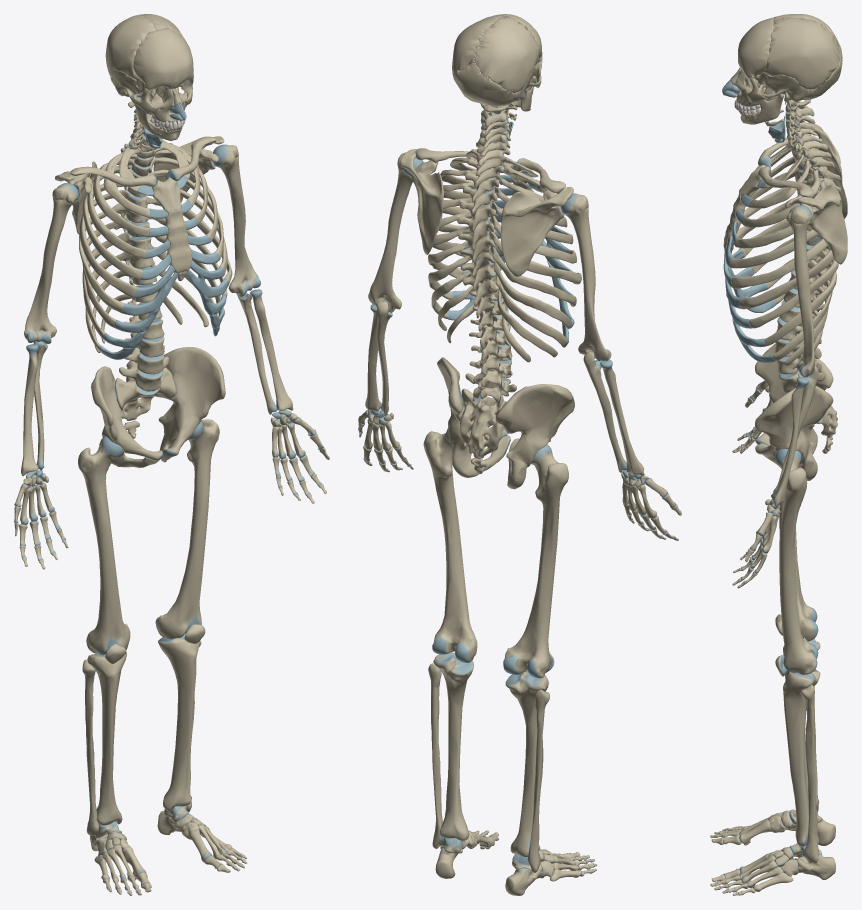
The model's file is skeleton.glb.
3 views of the same model, side by side, from view 1: azimuth 30°, elevation 25°; view 2: azimuth 150°, elevation 25°; view 3: azimuth 270°, elevation 25° (orthographic). The views are drawn at different scales.
Visible parts, largest first — view 1: Femur_r, Femur_l, Hip_bone_l, Tibia_l, Frontal_bone, Tibia_r, Humerus_r, Humerus_l, Hip_bone_r, Parietal_bone_r, Sacrum, Fibula_r (+18 smaller); view 2: Femur_r, Femur_l, Hip_bone_r, Scapula_r, Parietal_bone_r, Tibia_l, Tibia_r, Humerus_r, Humerus_l, Hip_bone_l, Scapula_l, Sacrum (+15 smaller); view 3: Femur_l, Parietal_bone_l, Tibia_l, Hip_bone_l, Humerus_l, Scapula_l, Fibula_l, Frontal_bone, Hip_bone_r, Radius_l, Femur_r, Seventh_rib_l (+28 smaller).
Boxes of the visible parts, box(x1,y1,x2,y2) form: Femur_r: box(78, 436, 130, 655); Femur_l: box(155, 419, 219, 639); Hip_bone_l: box(158, 347, 225, 462); Tibia_l: box(158, 633, 200, 811); Frontal_bone: box(133, 28, 193, 91); Tibia_r: box(87, 652, 126, 825); Humerus_r: box(24, 183, 78, 344); Humerus_l: box(212, 144, 260, 296); Hip_bone_r: box(91, 366, 162, 467); Parietal_bone_r: box(105, 15, 157, 79); Sacrum: box(115, 367, 175, 420); Fibula_r: box(82, 659, 99, 835); Femur_r: box(503, 444, 568, 678); Femur_l: box(423, 428, 477, 662); Hip_bone_r: box(495, 384, 574, 489); Scapula_r: box(500, 187, 573, 276); Parietal_bone_r: box(474, 16, 539, 93); Tibia_l: box(433, 652, 473, 840); Tibia_r: box(505, 671, 548, 857); Humerus_r: box(561, 193, 611, 361); Humerus_l: box(368, 152, 423, 312); Hip_bone_l: box(437, 357, 510, 477); Scapula_l: box(400, 149, 443, 254); Sacrum: box(459, 388, 507, 458); Femur_l: box(775, 448, 818, 674); Parietal_bone_l: box(763, 17, 840, 89); Tibia_l: box(783, 669, 820, 846); Hip_bone_l: box(755, 386, 833, 480); Humerus_l: box(786, 205, 815, 377); Scapula_l: box(785, 183, 847, 264); Fibula_l: box(800, 684, 818, 863); Frontal_bone: box(738, 17, 774, 78); Hip_bone_r: box(755, 343, 833, 453); Radius_l: box(771, 377, 808, 506); Femur_r: box(779, 470, 818, 641); Seventh_rib_l: box(739, 249, 834, 309).
Size of the model in its own units: 0.6692 by 1.7 by 0.2501.
